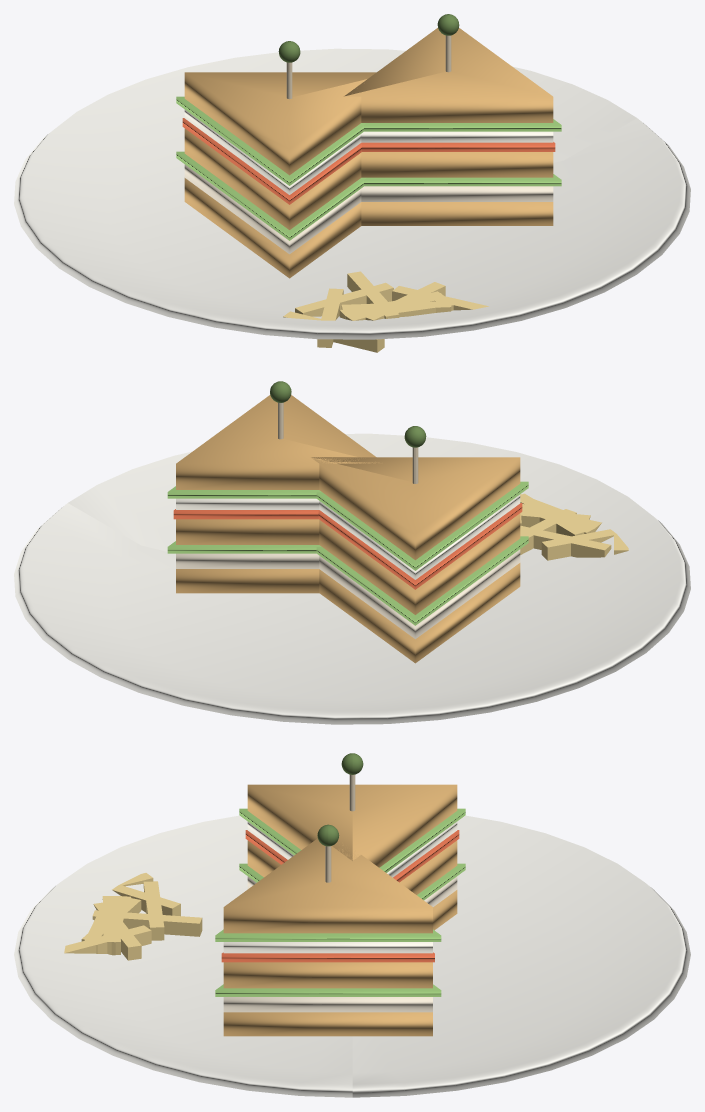
Rendered from club-sandwich.glb.
3 renders of one model, top to bottom at view 1: azimuth 30°, elevation 25°; view 2: azimuth 150°, elevation 25°; view 3: azimuth 270°, elevation 25°, orthographic.
Parts seen in each view (by area): view 1: club-sandwich; view 2: club-sandwich; view 3: club-sandwich.
Boxes of the visible parts, <box> form: club-sandwich: <box>14,14,690,352</box>; club-sandwich: <box>14,381,690,724</box>; club-sandwich: <box>14,753,690,1097</box>.
Size of the model in its own units: 0.28 by 0.0915 by 0.28.
